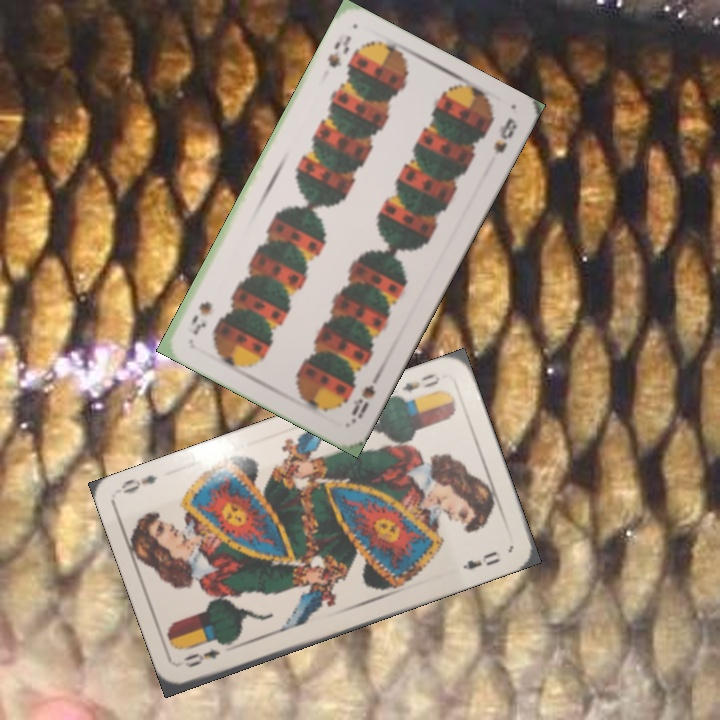EO: (391, 369, 443, 405), (179, 645, 223, 671)
S8: (347, 371, 382, 426), (323, 31, 354, 71)
